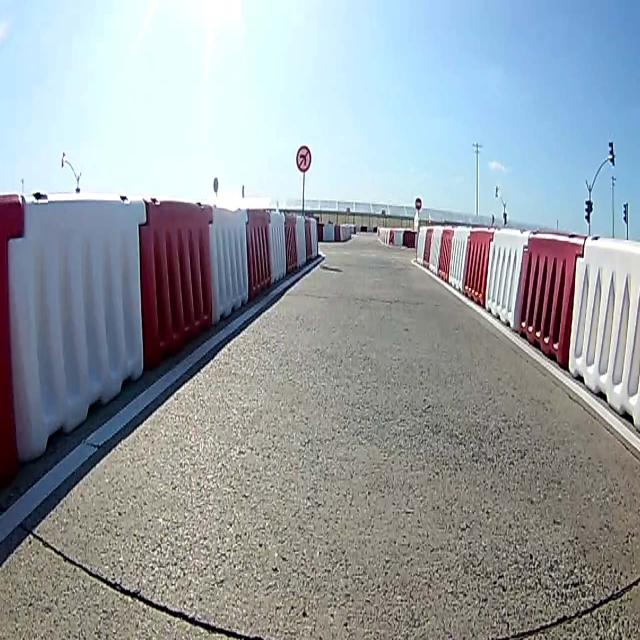girisyok: (414, 197, 423, 208)
soladonulmez: (294, 146, 314, 172)
